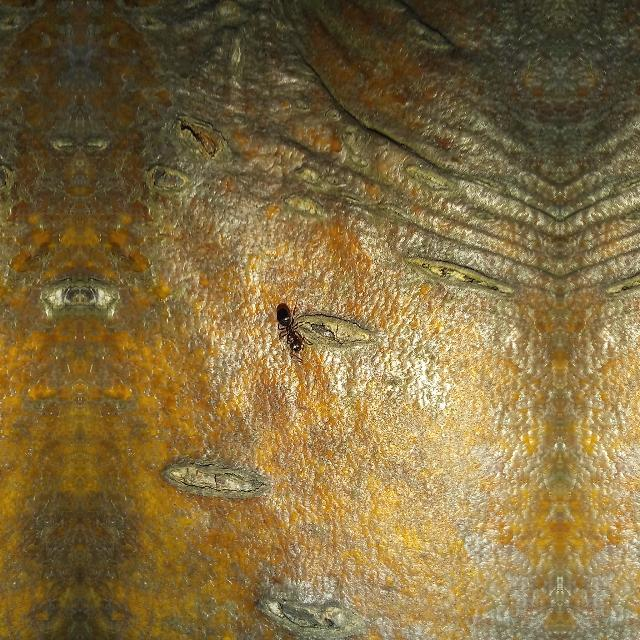Dolichoderus: (266, 285, 312, 361)
